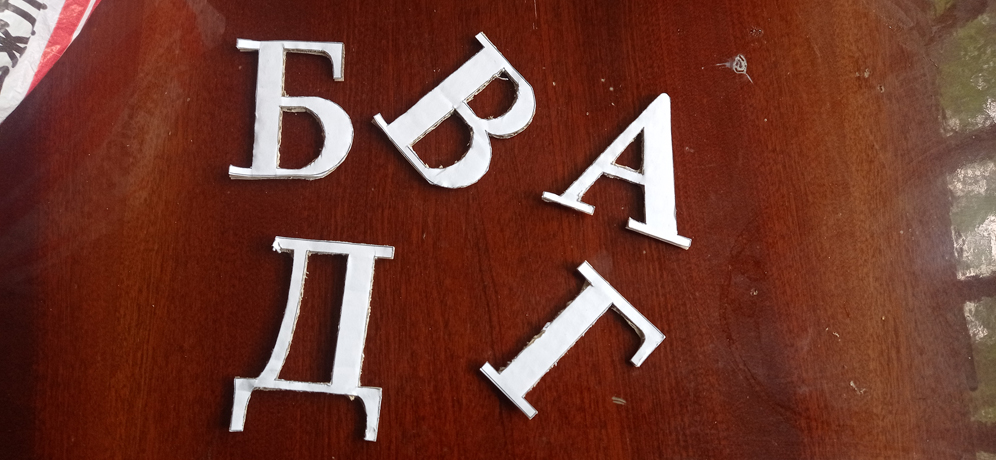a: (542, 90, 692, 251)
b: (226, 36, 354, 183)
d: (229, 235, 397, 443)
g: (476, 258, 667, 423)
v: (371, 33, 538, 192)
